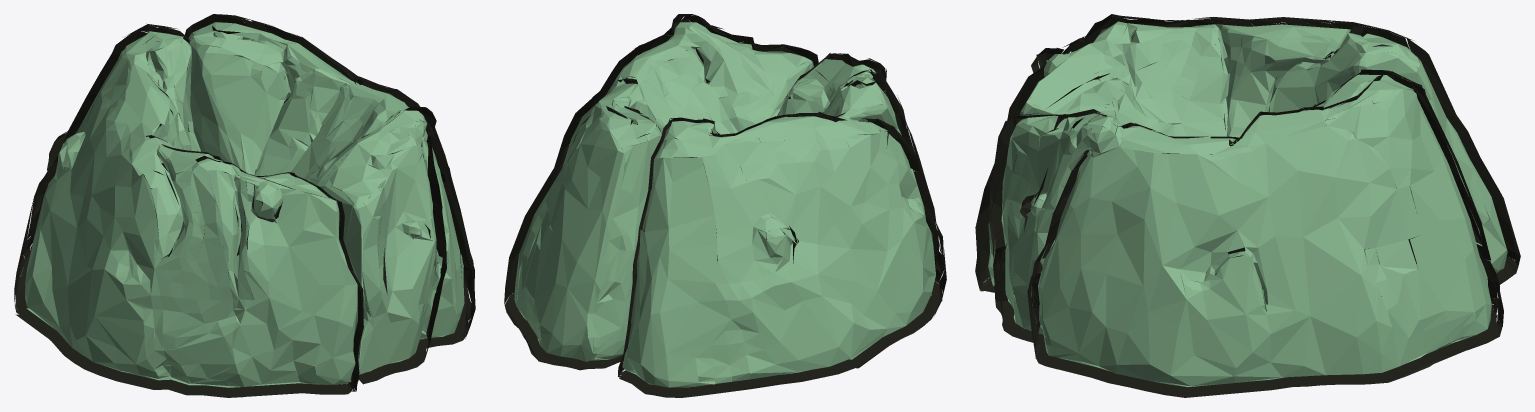
The model's file is df_v2_rock_moss_cluster_f_a.glb.
3 views of the same model, side by side, from view 1: azimuth 30°, elevation 25°; view 2: azimuth 150°, elevation 25°; view 3: azimuth 270°, elevation 25° (orthographic). The views are drawn at different scales.
Visible parts, largest first — view 1: rock_moss_cluster_f_mesh_01, rock_moss_cluster_f_mesh_01_ink_outline; view 2: rock_moss_cluster_f_mesh_01, rock_moss_cluster_f_mesh_01_ink_outline; view 3: rock_moss_cluster_f_mesh_01, rock_moss_cluster_f_mesh_01_ink_outline.
Part boxes in pixels (x1,y1,x2,y2): rock_moss_cluster_f_mesh_01: (25,22,464,387); rock_moss_cluster_f_mesh_01_ink_outline: (14,14,475,397); rock_moss_cluster_f_mesh_01: (514,22,935,387); rock_moss_cluster_f_mesh_01_ink_outline: (504,14,946,397); rock_moss_cluster_f_mesh_01: (988,21,1507,387); rock_moss_cluster_f_mesh_01_ink_outline: (975,14,1520,397).
Bounding box in the file's own units: 0.7404 × 0.4288 × 0.8405.
